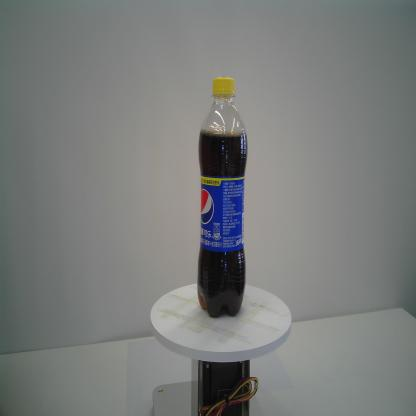Drink: (196, 76, 249, 319)
